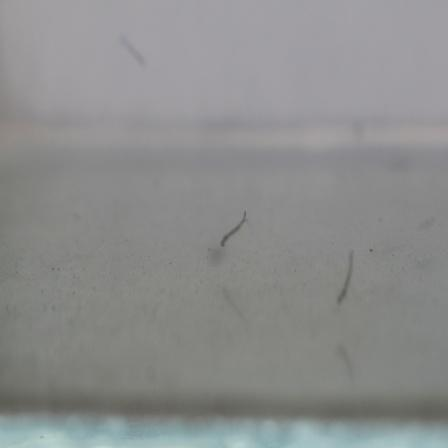Jentik-Nyamuk: (216, 209, 252, 250)
